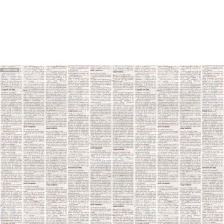news_paper: (0, 64, 224, 224)
